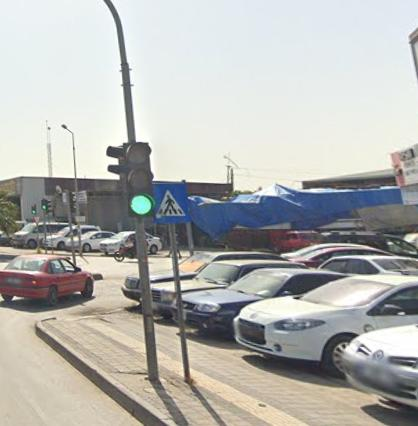greenlight: (122, 141, 159, 219)
